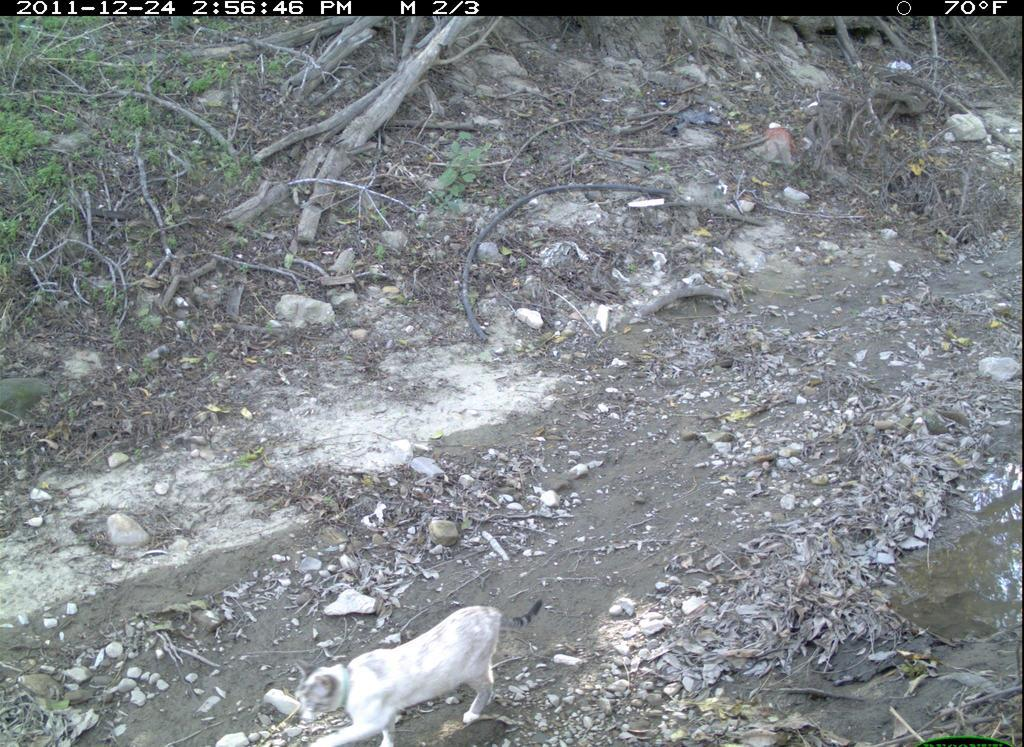cat: (285, 589, 545, 743)
